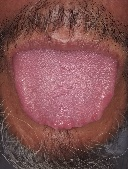tongue: (10, 53, 119, 131)
